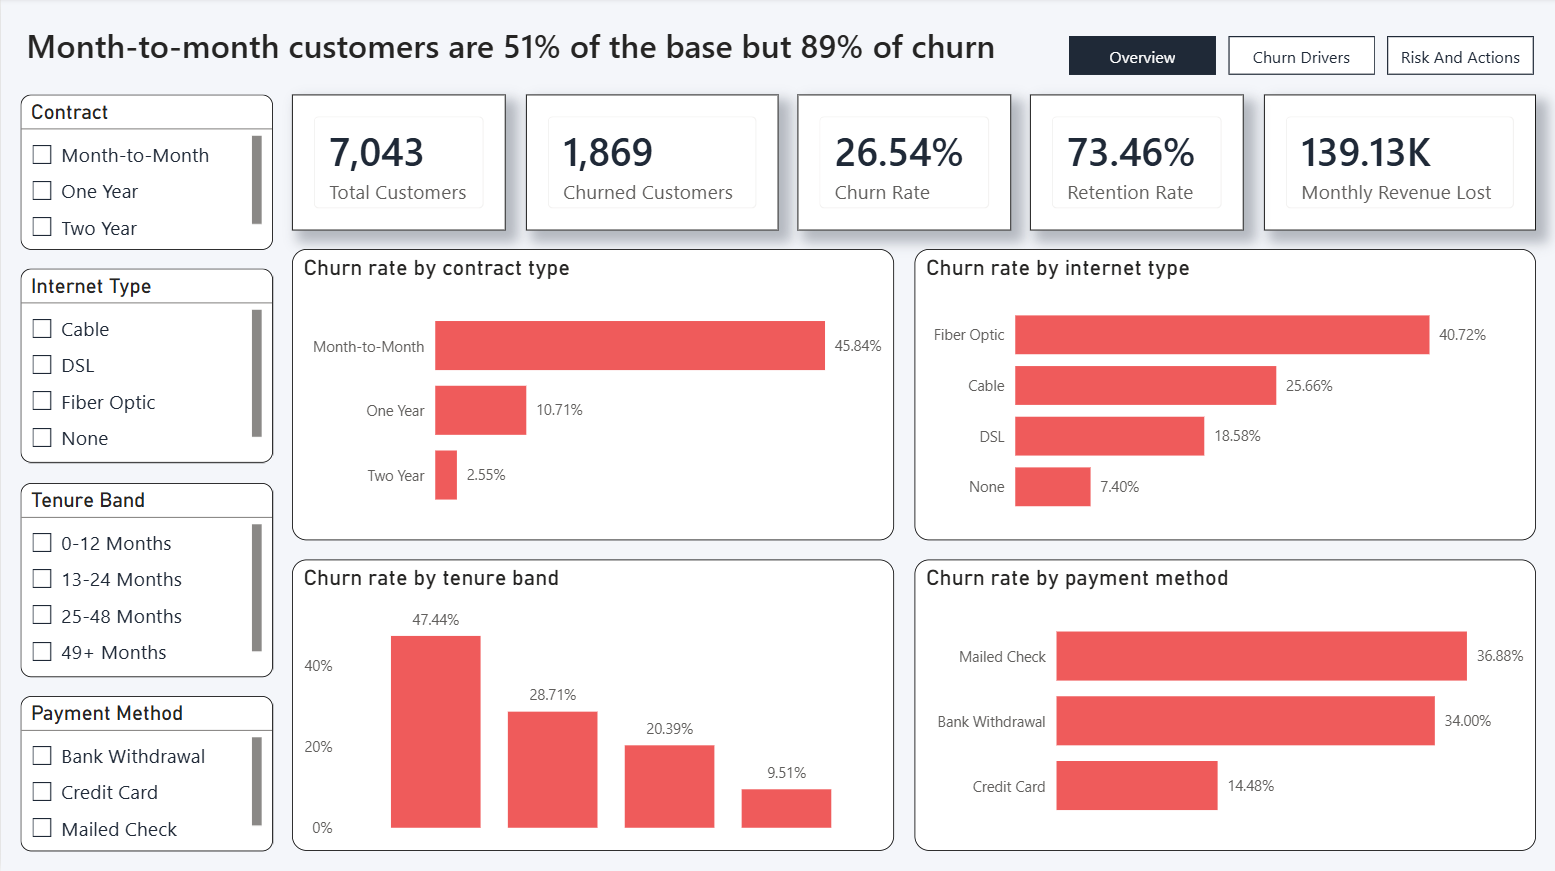

What the dashboard file says about the page in this screenshot:
{"tool":"powerbi","page":{"name":"Overview","canvas":[1280,720],"ordinal":0},"visuals":[{"type":"textbox","box":[16,16,944,80],"z":0},{"type":"cardVisual","fields":{"Data":["telco.Total Customers Display"]},"box":[240,80,176,112],"z":1000},{"type":"cardVisual","fields":{"Data":["telco.Monthly Revenue Lost"]},"box":[1040,80,224,112],"z":2000},{"type":"cardVisual","fields":{"Data":["telco.Churned Customers Display"]},"box":[432,80,208,112],"z":3000},{"type":"cardVisual","fields":{"Data":["telco.Churn Rate"]},"box":[656,80,176,112],"z":4000},{"type":"cardVisual","fields":{"Data":["telco.Retention Rate"]},"box":[848,80,176,112],"z":5000},{"type":"clusteredBarChart","title":"Churn rate by contract type","fields":{"Category":["telco.Contract"],"Y":["telco.Churn Rate"]},"box":[240,208,496,240],"z":6000},{"type":"clusteredColumnChart","title":"Churn rate by tenure band","fields":{"Category":["telco.Tenure Band"],"Y":["telco.Churn Rate"]},"box":[240,464,496,240],"z":7000},{"type":"clusteredBarChart","title":"Churn rate by internet type","fields":{"Y":["telco.Churn Rate"],"Category":["telco.Internet Type"]},"box":[752,208,512,240],"z":8000},{"type":"listSlicer","fields":{"Values":["telco.Contract"]},"box":[16,80,208,128],"z":9000},{"type":"listSlicer","fields":{"Values":["telco.Internet Type"]},"box":[16,224,208,160],"z":10000},{"type":"listSlicer","fields":{"Values":["telco.Payment Method"]},"box":[16,576,208,128],"z":11000},{"type":"listSlicer","fields":{"Values":["telco.Tenure Band"]},"box":[16,400,208,160],"z":12000},{"type":"clusteredBarChart","title":"Churn rate by payment method","fields":{"Category":["telco.Payment Method"],"Y":["telco.Churn Rate"]},"box":[752,464,512,240],"z":13000},{"type":"pageNavigator","box":[880,32,384,32],"z":14000}]}

Visuals, with their boxes in screenshot pixels (x1, y1, x2, y2), scaled from the page's 1280x720 canvas onto the 1555x871 screenshot:
textbox: x1=19, y1=19, x2=1166, y2=116
cardVisual - telco.Total Customers Display: x1=292, y1=97, x2=505, y2=232
cardVisual - telco.Monthly Revenue Lost: x1=1263, y1=97, x2=1536, y2=232
cardVisual - telco.Churned Customers Display: x1=525, y1=97, x2=778, y2=232
cardVisual - telco.Churn Rate: x1=797, y1=97, x2=1011, y2=232
cardVisual - telco.Retention Rate: x1=1030, y1=97, x2=1244, y2=232
"Churn rate by contract type" clusteredBarChart: x1=292, y1=252, x2=894, y2=542
"Churn rate by tenure band" clusteredColumnChart: x1=292, y1=561, x2=894, y2=852
"Churn rate by internet type" clusteredBarChart: x1=914, y1=252, x2=1536, y2=542
listSlicer - telco.Contract: x1=19, y1=97, x2=272, y2=252
listSlicer - telco.Internet Type: x1=19, y1=271, x2=272, y2=465
listSlicer - telco.Payment Method: x1=19, y1=697, x2=272, y2=852
listSlicer - telco.Tenure Band: x1=19, y1=484, x2=272, y2=677
"Churn rate by payment method" clusteredBarChart: x1=914, y1=561, x2=1536, y2=852
pageNavigator: x1=1069, y1=39, x2=1536, y2=77
